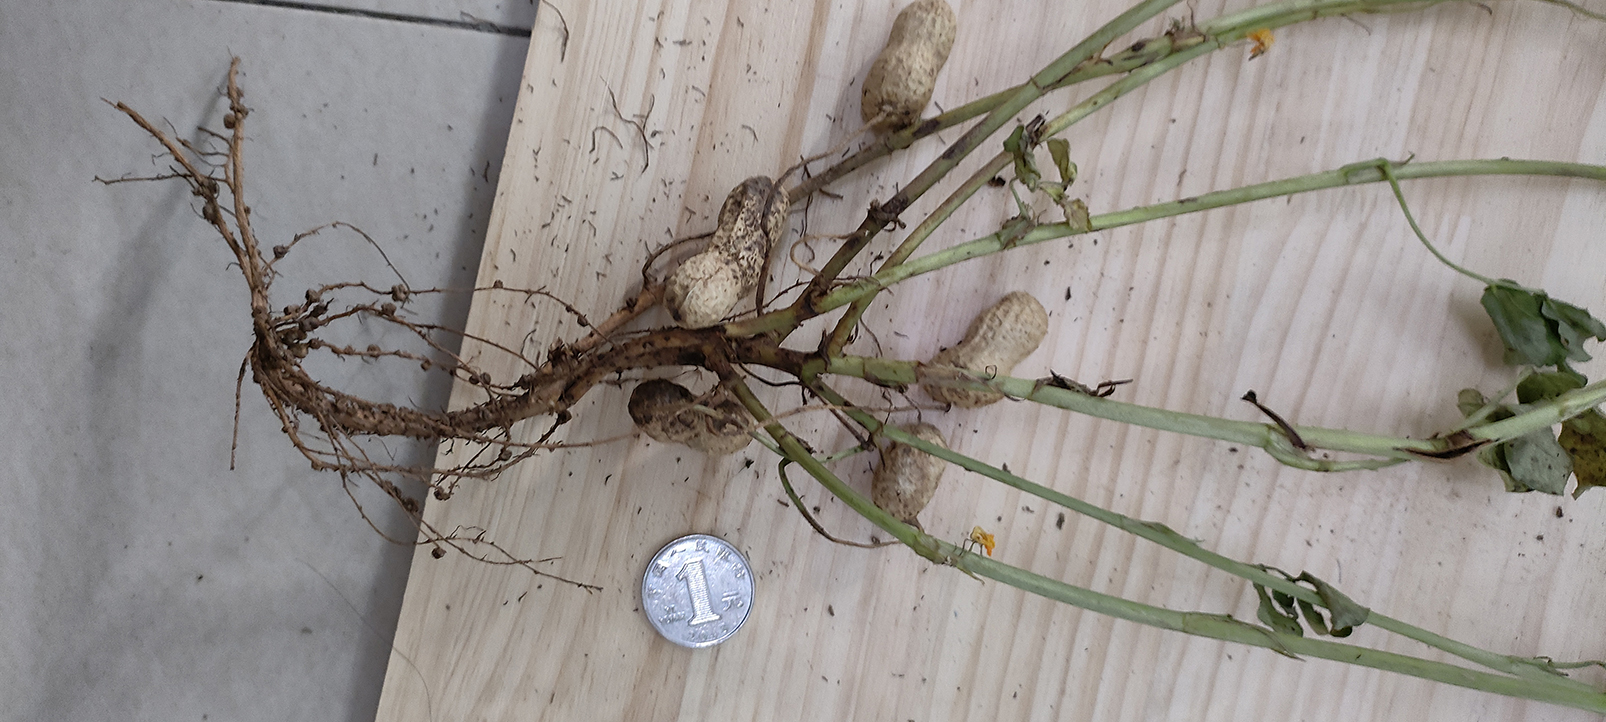h: (664, 177, 791, 328), (927, 291, 1049, 405), (860, 1, 959, 134), (871, 423, 948, 519)
l: (627, 379, 759, 453)
